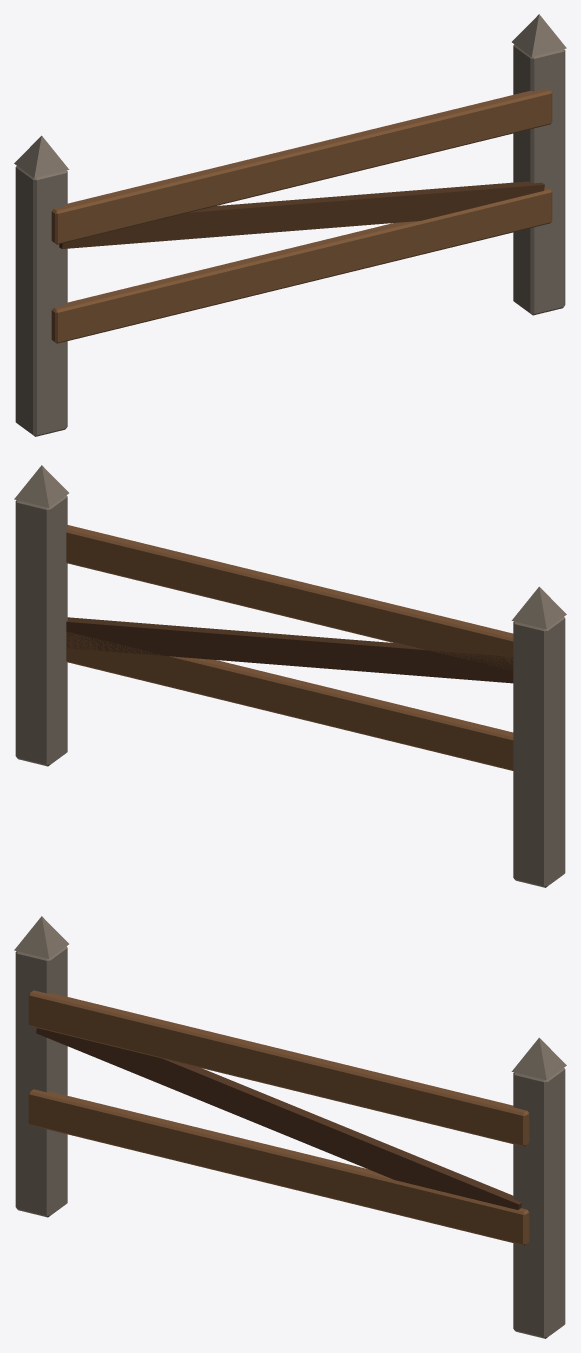
Rendered from town_fence.glb.
The picture shows the model from 3 angles, top to bottom: view 1: azimuth 30°, elevation 25°; view 2: azimuth 150°, elevation 25°; view 3: azimuth 330°, elevation 25°; orthographic projection.
Visible parts, largest first — view 1: town_fence; view 2: town_fence; view 3: town_fence.
Boxes of the visible parts, x1,y1,x2,y2 form: town_fence: (14, 14, 566, 436); town_fence: (14, 465, 566, 887); town_fence: (14, 916, 566, 1338).
Bounding box in the file's own units: 2.14 × 1.12 × 0.1707.
